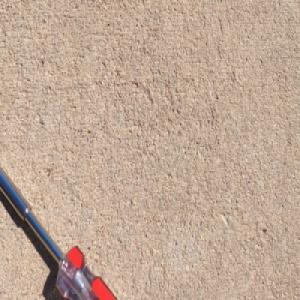Screwdriver: (0, 158, 120, 300)
